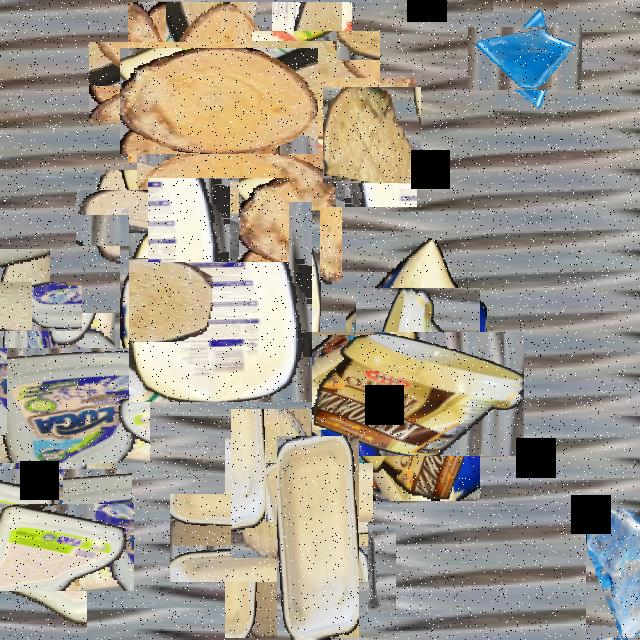glass: (266, 16, 366, 116), (480, 14, 570, 103), (586, 510, 640, 638)
metal: (278, 451, 362, 534), (348, 528, 396, 613)
plastic: (174, 39, 380, 245), (124, 206, 316, 398), (334, 310, 502, 479), (346, 237, 486, 407), (0, 330, 132, 480), (277, 436, 359, 638), (0, 480, 110, 614), (0, 427, 90, 560)
wood: (143, 25, 295, 178), (197, 467, 341, 610), (108, 21, 230, 142), (162, 164, 274, 277), (231, 409, 311, 558), (323, 87, 421, 183), (85, 180, 161, 256), (0, 265, 66, 347)
